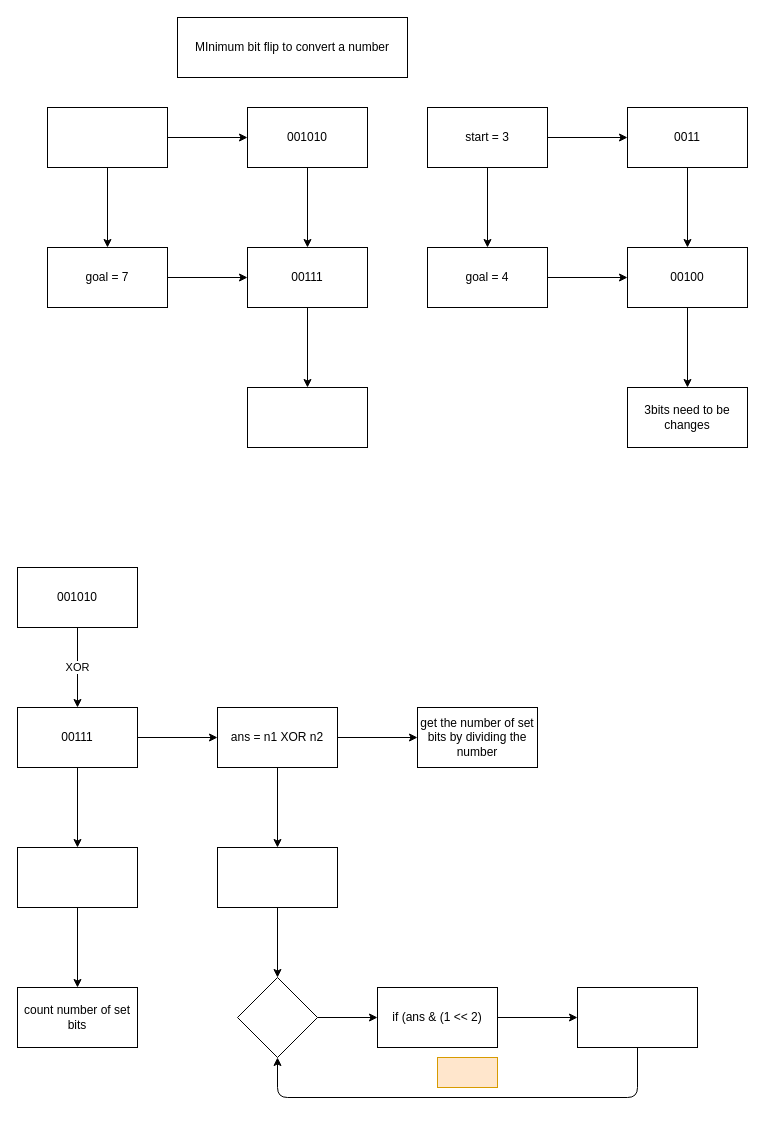
The diagram is 765 pixels wide and 1123 high, and some of its shapes have lost their labels. Each missing label, with the centre of its shape:
"count ++" belongs at (x=637, y=1017).
"count = 0" belongs at (x=277, y=877).
"for i = 0 to 2 pow 31" belongs at (x=277, y=1017).
"loop" belongs at (x=467, y=1072).
"set the 1 in place wher ethe bit chnagesd" belongs at (x=77, y=877).
"start = 10" belongs at (x=107, y=137).
"three bits need to be change" belongs at (x=307, y=417).
